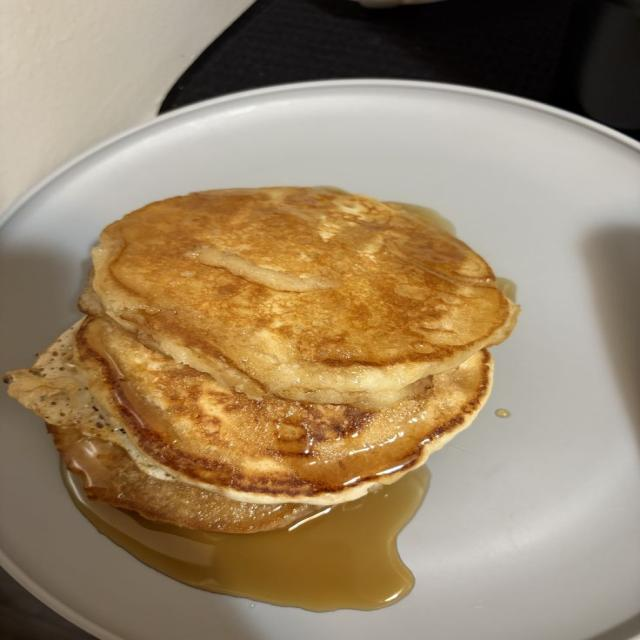pancake: (93, 188, 518, 409), (76, 318, 492, 504), (8, 327, 314, 533)
